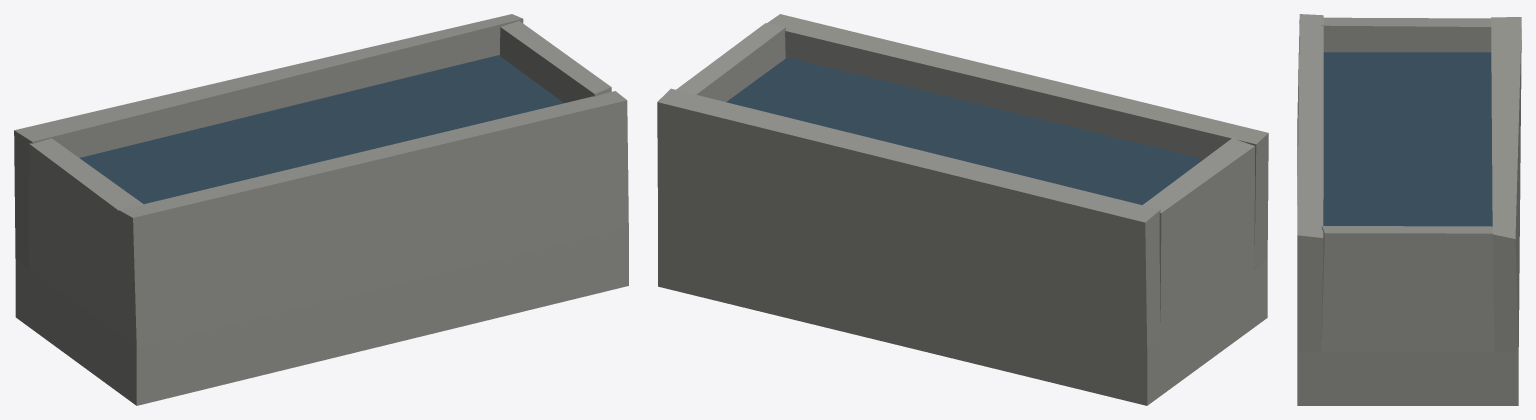
The model's file is Trough.fbx.
The picture shows the model from 3 angles, left to right: view 1: azimuth 30°, elevation 25°; view 2: azimuth 150°, elevation 25°; view 3: azimuth 270°, elevation 25°; orthographic projection. The views are drawn at different scales.
Visible parts, largest first — view 1: Trough; view 2: Trough; view 3: Trough.
Boxes of the visible parts, bbox=[...] form: Trough: bbox=[14, 14, 628, 405]; Trough: bbox=[657, 14, 1268, 405]; Trough: bbox=[1297, 14, 1521, 405].
Bounding box in the file's own units: 1.52 × 0.5492 × 0.6489.
